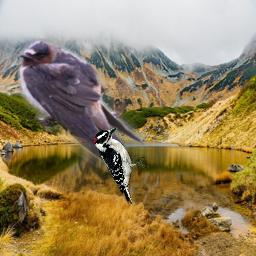Swallow: (16, 38, 146, 174)
Woodpecker: (93, 127, 149, 204)
